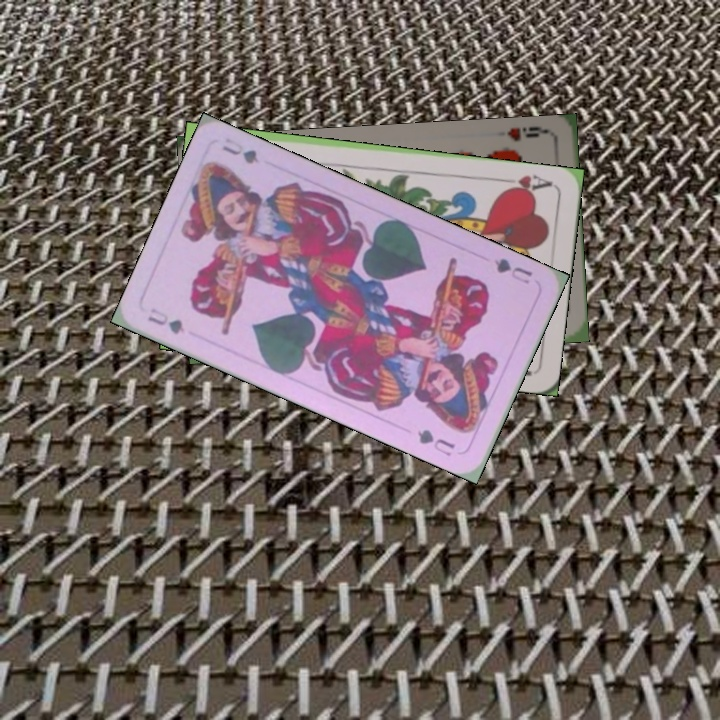GU: (490, 253, 535, 287), (143, 304, 188, 337)
H9: (504, 122, 551, 144)
HA: (497, 170, 555, 197)
